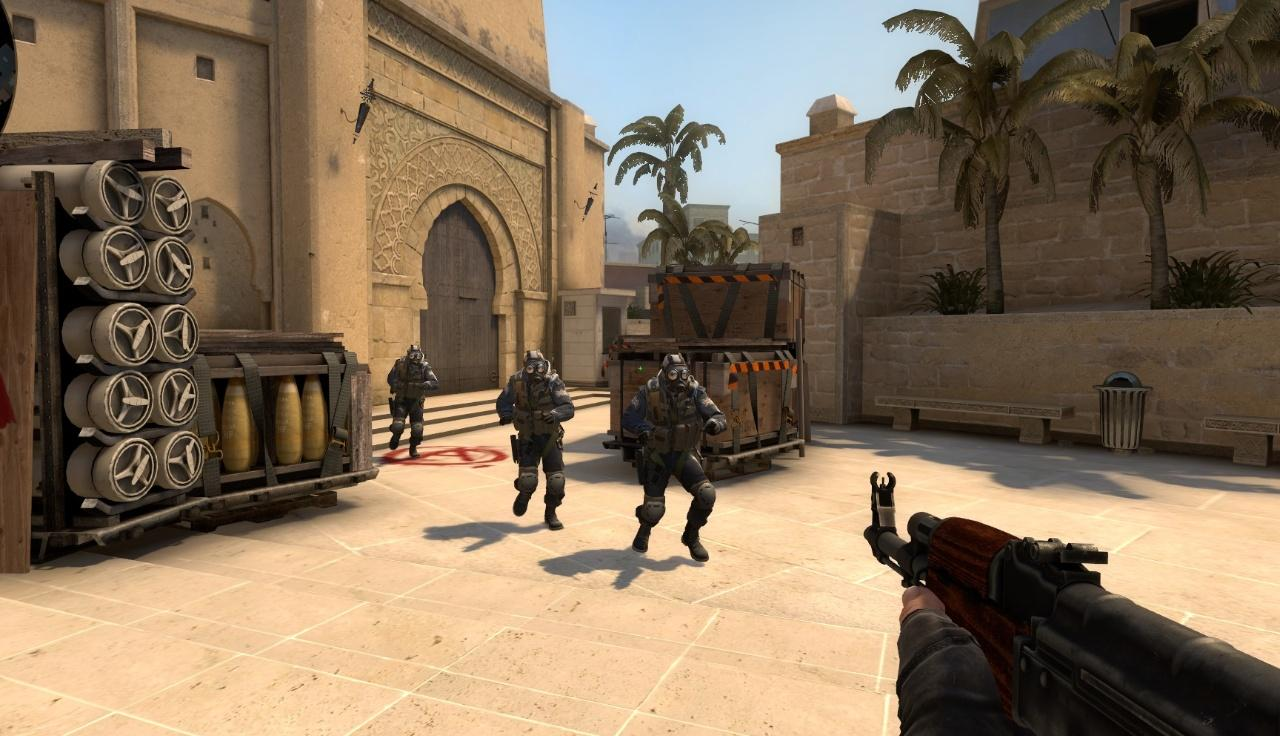ct: (622, 354, 724, 562), (495, 351, 573, 530), (387, 345, 436, 459)
cthead: (661, 355, 689, 390), (523, 350, 547, 380), (407, 345, 424, 363)
rifle: (861, 471, 1280, 736)
